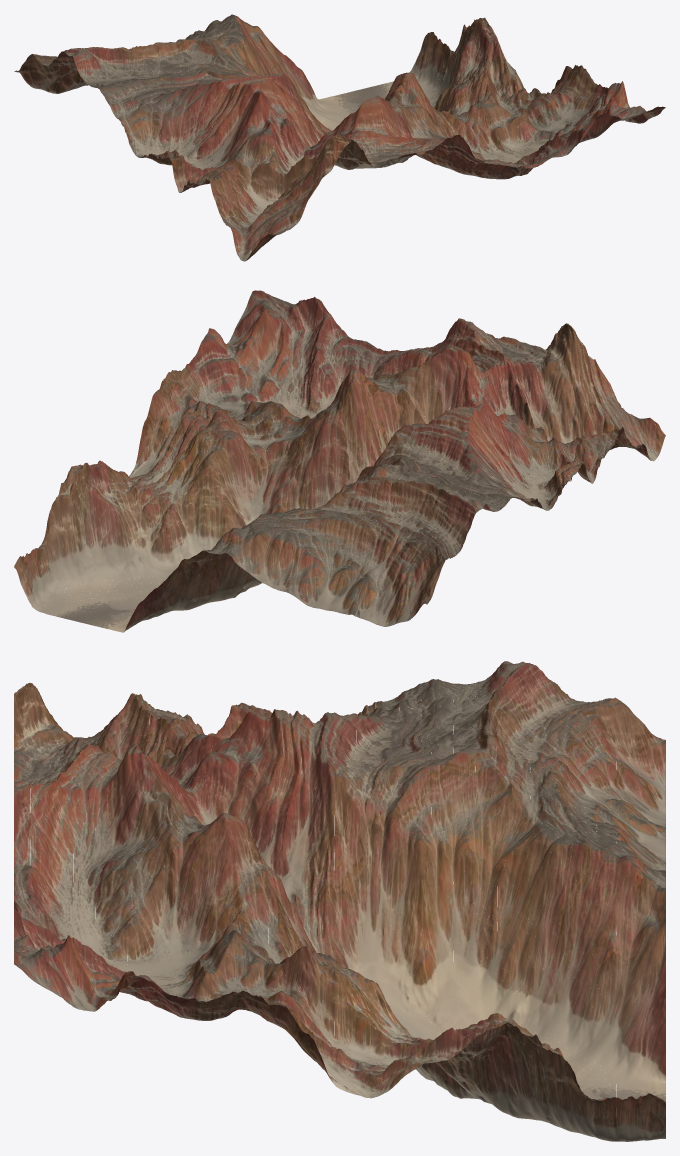
Rendered from canyon.glb.
The picture shows the model from 3 angles, top to bottom: view 1: azimuth 30°, elevation 25°; view 2: azimuth 150°, elevation 25°; view 3: azimuth 270°, elevation 25°; orthographic projection. The views are drawn at different scales.
Parts seen in each view (by area): view 1: Object_5, Object_4, Object_6, Object_3, Object_2; view 2: Object_3, Object_2, Object_4, Object_5, Object_6; view 3: Object_2, Object_3, Object_4, Object_5, Object_6.
Part boxes in pixels (x1,y1,x2,y2): Object_5: (196, 73, 665, 260); Object_4: (98, 45, 606, 257); Object_6: (143, 65, 602, 192); Object_3: (32, 17, 507, 261); Object_2: (14, 14, 448, 156); Object_3: (34, 346, 665, 616); Object_2: (14, 449, 550, 632); Object_4: (101, 324, 664, 558); Object_5: (194, 290, 662, 460); Object_6: (134, 365, 603, 508); Object_2: (353, 661, 665, 1141); Object_3: (99, 661, 616, 1141); Object_4: (14, 680, 452, 1098); Object_5: (14, 683, 280, 1011); Object_6: (177, 702, 342, 1086).
Bounding box in the file's own units: 1 × 0.4352 × 1.
1 material, 1 textured.
